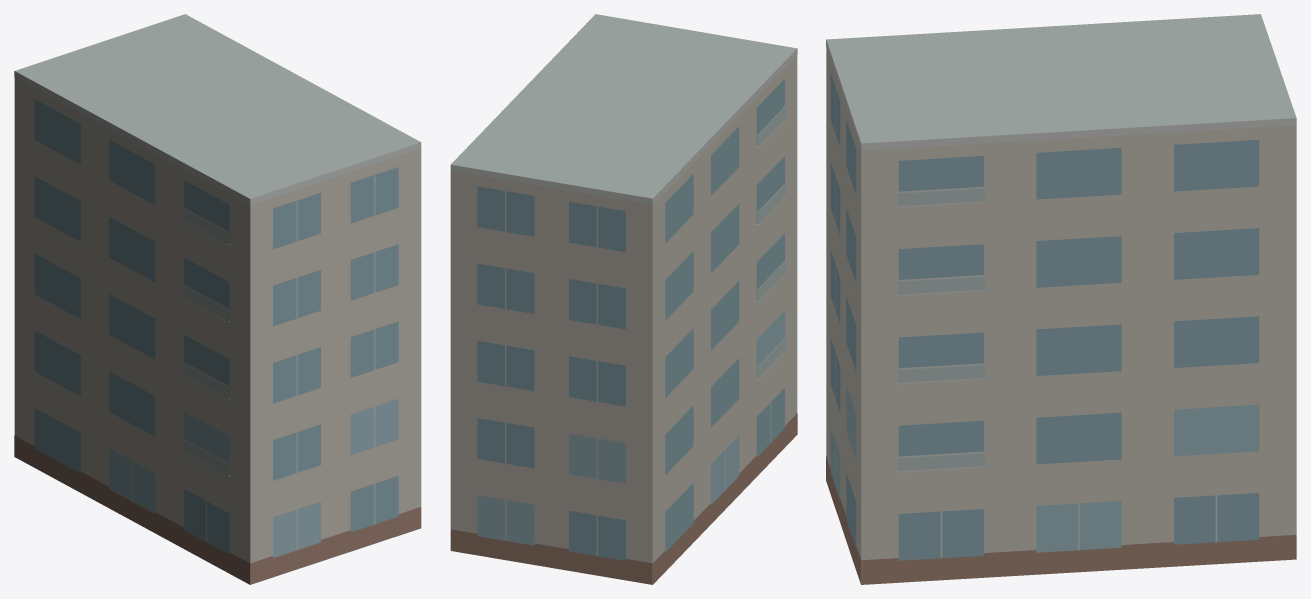
File: survey-upis-32870375.glb
3 views of the same model, side by side, from view 1: azimuth 30°, elevation 25°; view 2: azimuth 150°, elevation 25°; view 3: azimuth 270°, elevation 25° (orthographic). The views are drawn at different scales.
Visible parts, largest first — view 1: survey-upis-32870375.tmp; view 2: survey-upis-32870375.tmp; view 3: survey-upis-32870375.tmp.
Part boxes in pixels (x1=…): survey-upis-32870375.tmp: x1=14, y1=14, x2=421, y2=584; survey-upis-32870375.tmp: x1=450, y1=14, x2=797, y2=584; survey-upis-32870375.tmp: x1=826, y1=14, x2=1296, y2=584.
Bounding box in the file's own units: 9.32 × 14.8 × 14.31.
